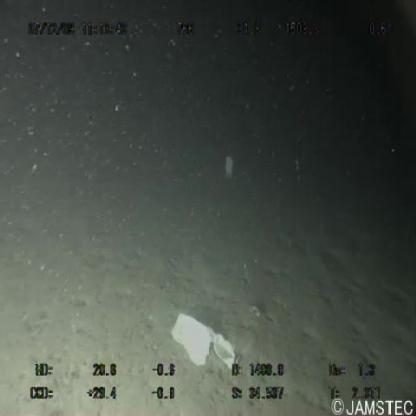Rác: (169, 306, 241, 373)
